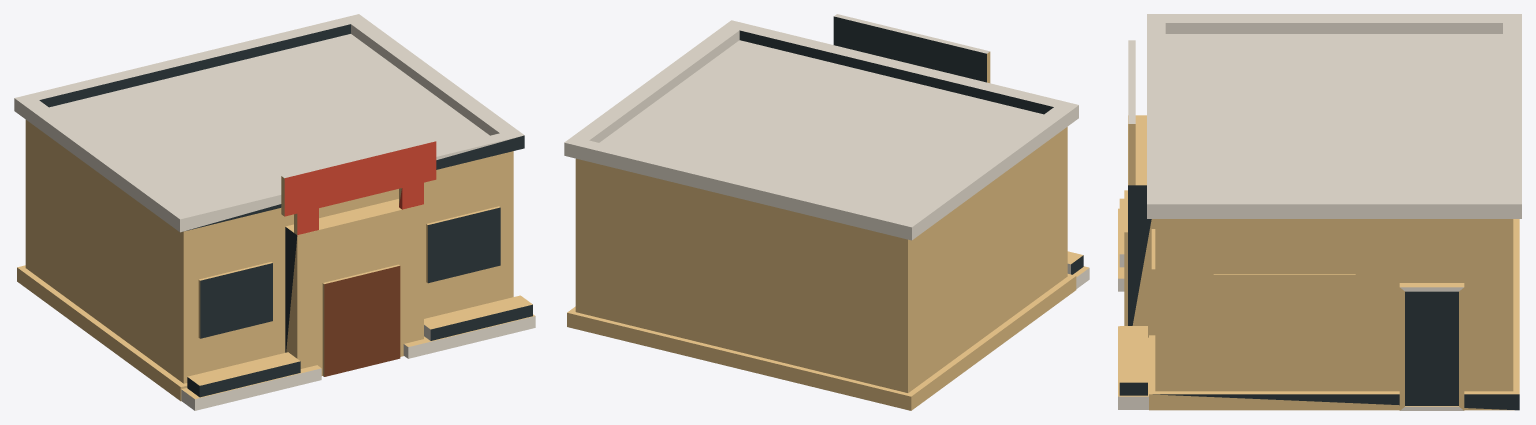
File: ruta_gastronomia_fonda.glb
3 views of the same model, side by side, from view 1: azimuth 30°, elevation 25°; view 2: azimuth 150°, elevation 25°; view 3: azimuth 270°, elevation 25° (orthographic). The views are drawn at different scales.
Parts seen in each view (by area): view 1: Building_Pizza; view 2: Building_Pizza; view 3: Building_Pizza.
Part boxes in pixels (bbox=[...]): Building_Pizza: bbox=[14, 14, 535, 410]; Building_Pizza: bbox=[564, 14, 1089, 410]; Building_Pizza: bbox=[1118, 14, 1521, 410].
Bounding box in the file's own units: 13.59 × 7.8 × 12.19.
